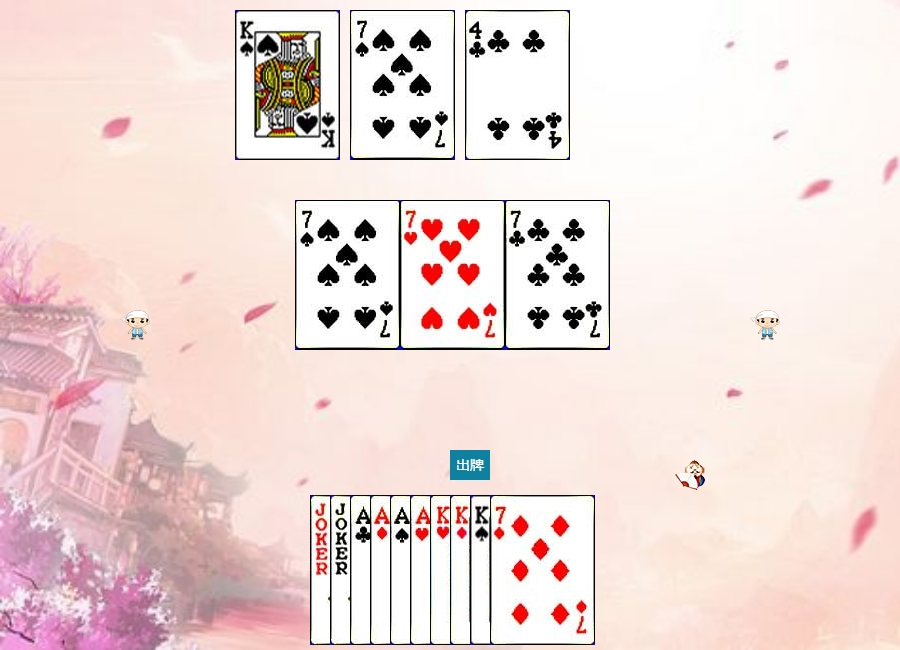13~1: (450, 495, 555, 645)
13~3: (430, 495, 535, 645)
13~4: (235, 10, 340, 160), (470, 495, 575, 645)
14~1: (370, 495, 475, 645)
14~2: (350, 495, 455, 645)
14~3: (410, 495, 515, 645)
14~4: (390, 495, 495, 645)
17~3: (330, 495, 435, 645)
18~4: (310, 495, 415, 645)
4~2: (465, 10, 570, 160)
7~1: (490, 495, 595, 645)
7~2: (505, 200, 610, 350)
7~3: (400, 200, 505, 350)
7~4: (350, 10, 455, 160), (295, 200, 400, 350)
